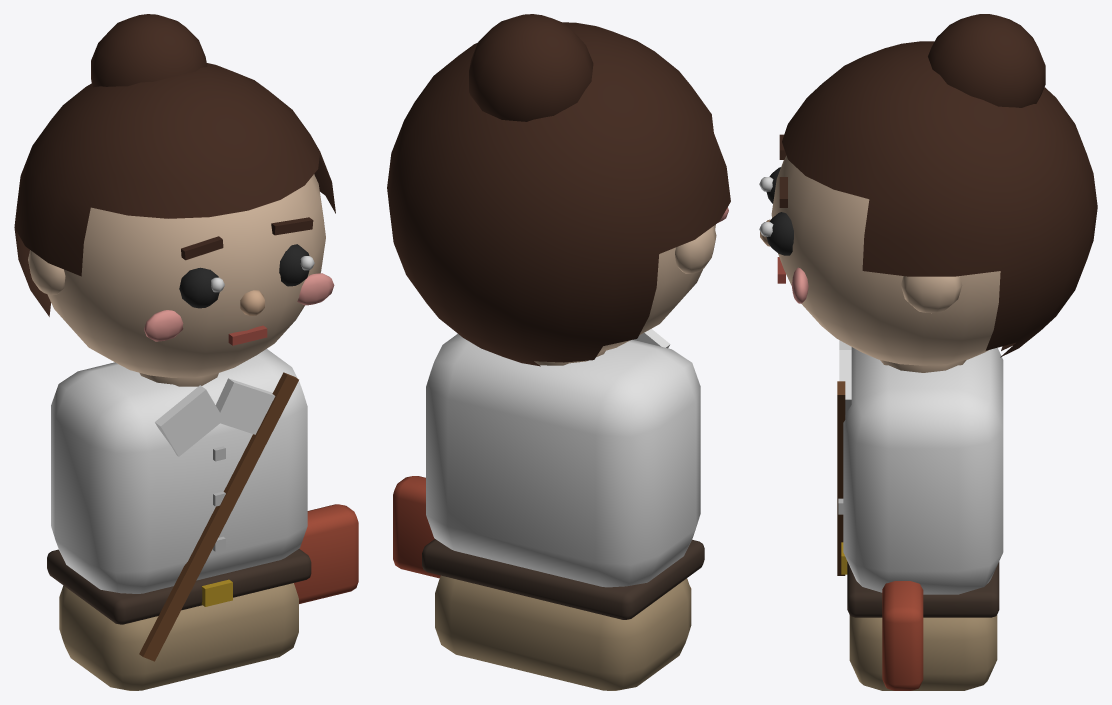
File: person_f.glb
The picture shows the model from 3 angles, left to right: view 1: azimuth 30°, elevation 25°; view 2: azimuth 150°, elevation 25°; view 3: azimuth 270°, elevation 25°; orthographic projection. The views are drawn at different scales.
Visible parts, largest first — view 1: person_f; view 2: person_f; view 3: person_f.
Boxes of the visible parts, x1=… form: person_f: x1=14, y1=14, x2=358, y2=690; person_f: x1=387, y1=14, x2=730, y2=690; person_f: x1=759, y1=14, x2=1097, y2=690.
Size of the model in its own units: 0.1766 by 0.342 by 0.165.
